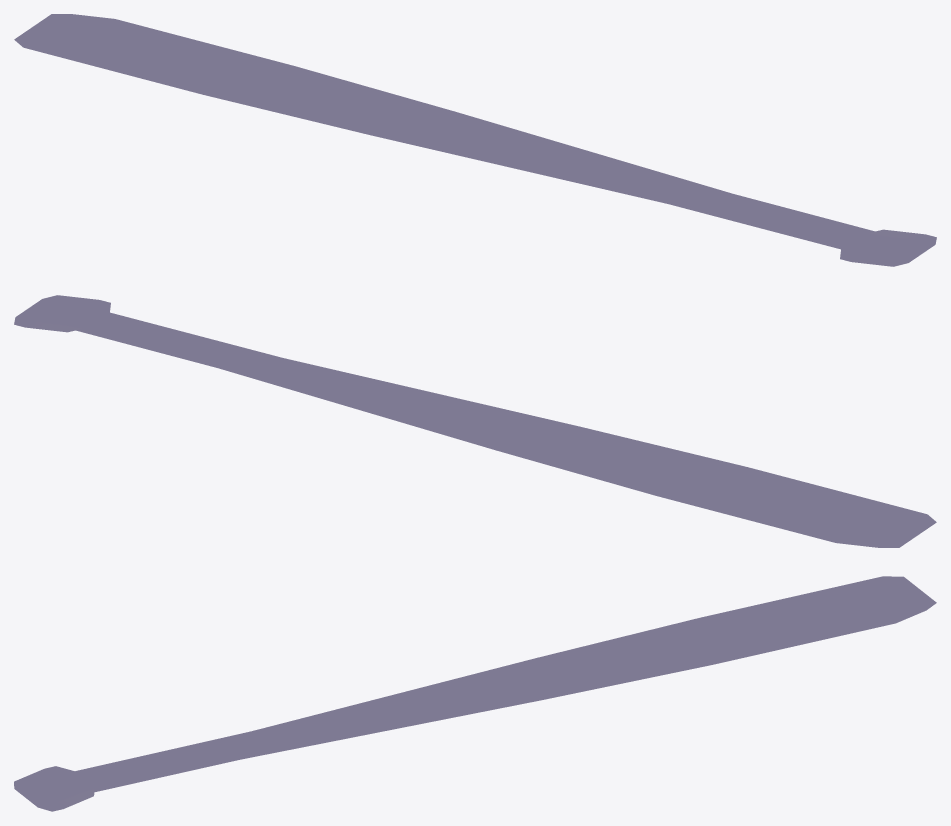
3 renders of one model, top to bottom at view 1: azimuth 30°, elevation 25°; view 2: azimuth 210°, elevation 25°; view 3: azimuth 270°, elevation 25°, orthographic.
Parts seen in each view (by area): view 1: Joint_0_Object_0; view 2: Joint_0_Object_0; view 3: Joint_0_Object_0.
Boxes of the visible parts, left/top/right/bottom form: Joint_0_Object_0: left=14, top=14, right=936, bottom=266; Joint_0_Object_0: left=14, top=295, right=936, bottom=547; Joint_0_Object_0: left=14, top=576, right=936, bottom=811.
Size of the model in its own units: 910 by 0 by 1507.
Materials: 1 (1 with a texture image).
